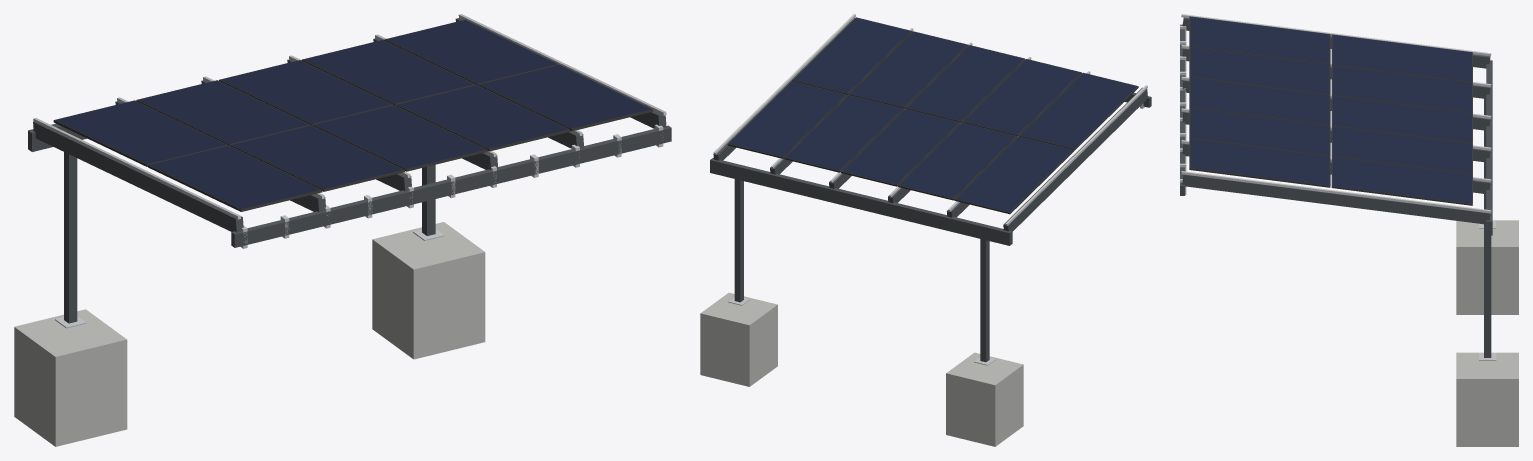
File: carport_only.glb
The picture shows the model from 3 angles, left to right: view 1: azimuth 30°, elevation 25°; view 2: azimuth 150°, elevation 25°; view 3: azimuth 270°, elevation 25°; orthographic projection. The views are drawn at different scales.
Visible parts, largest first — view 1: Footing_2, Footing_1, Ledger_180x80, Panel_2_4_glass, Panel_1_2_glass, Panel_1_4_glass, Panel_2_1_glass, Panel_2_2_glass, Panel_1_1_glass, Panel_1_3_glass, Panel_2_3_glass, Panel_2_5_glass (+12 smaller); view 2: Footing_1, Footing_2, EdgeBeam_250x100, Panel_1_2_glass, Panel_1_4_glass, Panel_2_4_glass, Panel_1_1_glass, Panel_2_1_glass, Panel_2_2_glass, Panel_2_3_glass, Panel_2_5_glass, Panel_1_3_glass (+12 smaller); view 3: Footing_2, Footing_1, Panel_2_2_glass, Panel_2_4_glass, Panel_1_2_glass, Panel_1_4_glass, Panel_1_1_glass, Panel_1_3_glass, Panel_1_5_glass, Panel_2_1_glass, Panel_2_3_glass, Panel_2_5_glass (+16 smaller).
Part boxes in pixels (bbox=[...]): Footing_2: bbox=[372, 222, 485, 359]; Footing_1: bbox=[14, 309, 127, 446]; Ledger_180x80: bbox=[231, 125, 671, 247]; Panel_2_4_glass: bbox=[303, 40, 473, 103]; Panel_1_2_glass: bbox=[232, 125, 402, 188]; Panel_1_4_glass: bbox=[397, 85, 568, 148]; Panel_2_1_glass: bbox=[55, 100, 226, 163]; Panel_2_2_glass: bbox=[138, 80, 308, 143]; Panel_1_1_glass: bbox=[149, 145, 320, 208]; Panel_1_3_glass: bbox=[315, 105, 485, 168]; Panel_2_3_glass: bbox=[221, 60, 391, 123]; Panel_2_5_glass: bbox=[386, 20, 556, 83]; Footing_1: bbox=[946, 352, 1023, 446]; Footing_2: bbox=[700, 292, 777, 386]; EdgeBeam_250x100: bbox=[710, 158, 1012, 245]; Panel_1_2_glass: bbox=[963, 59, 1080, 134]; Panel_1_4_glass: bbox=[850, 31, 966, 106]; Panel_2_4_glass: bbox=[785, 95, 902, 170]; Panel_1_1_glass: bbox=[1020, 73, 1136, 148]; Panel_2_1_glass: bbox=[956, 137, 1072, 212]; Panel_2_2_glass: bbox=[899, 123, 1015, 198]; Panel_2_3_glass: bbox=[842, 109, 958, 184]; Panel_2_5_glass: bbox=[729, 81, 845, 156]; Panel_1_3_glass: bbox=[907, 45, 1023, 120]; Footing_2: bbox=[1456, 352, 1518, 446]; Footing_1: bbox=[1456, 220, 1518, 314]; Panel_2_2_glass: bbox=[1332, 65, 1471, 112]; Panel_2_4_glass: bbox=[1332, 126, 1471, 173]; Panel_1_2_glass: bbox=[1190, 47, 1329, 93]; Panel_1_4_glass: bbox=[1190, 108, 1329, 154]; Panel_1_1_glass: bbox=[1190, 16, 1329, 63]; Panel_1_3_glass: bbox=[1190, 77, 1329, 124]; Panel_1_5_glass: bbox=[1190, 138, 1329, 185]; Panel_2_1_glass: bbox=[1332, 35, 1471, 81]; Panel_2_3_glass: bbox=[1332, 96, 1471, 142]; Panel_2_5_glass: bbox=[1332, 157, 1471, 203].
Bounding box in the file's own units: 6.1 × 4.86 × 5.42.
